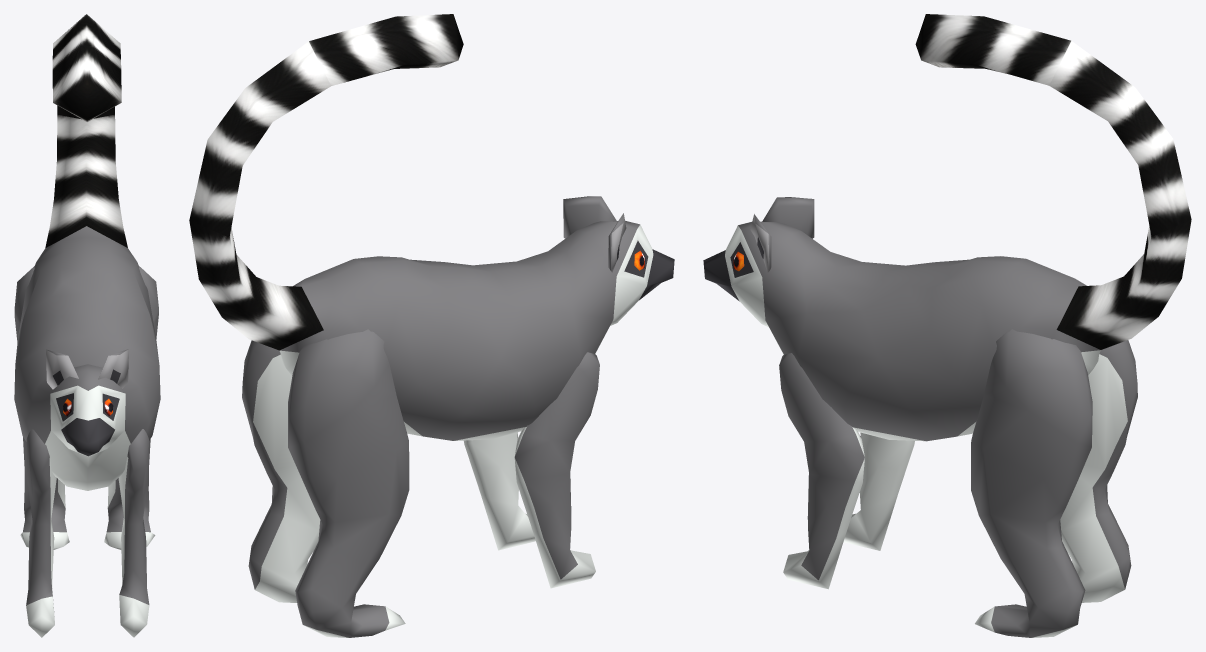
The model's file is Lemur.glb.
3 views of the same model, side by side, from view 1: azimuth 30°, elevation 25°; view 2: azimuth 150°, elevation 25°; view 3: azimuth 270°, elevation 25° (orthographic). The views are drawn at different scales.
Visible parts, largest first — view 1: Lemur; view 2: Lemur; view 3: Lemur.
Part boxes in pixels (x1,y1,x2,y2): Lemur: (14, 14, 160, 637); Lemur: (189, 14, 674, 637); Lemur: (703, 14, 1191, 637).
Size of what is drawn, in the model's own units: 0.4453 by 0.9599 by 0.7254.
Materials: 1 (1 with a texture image).
